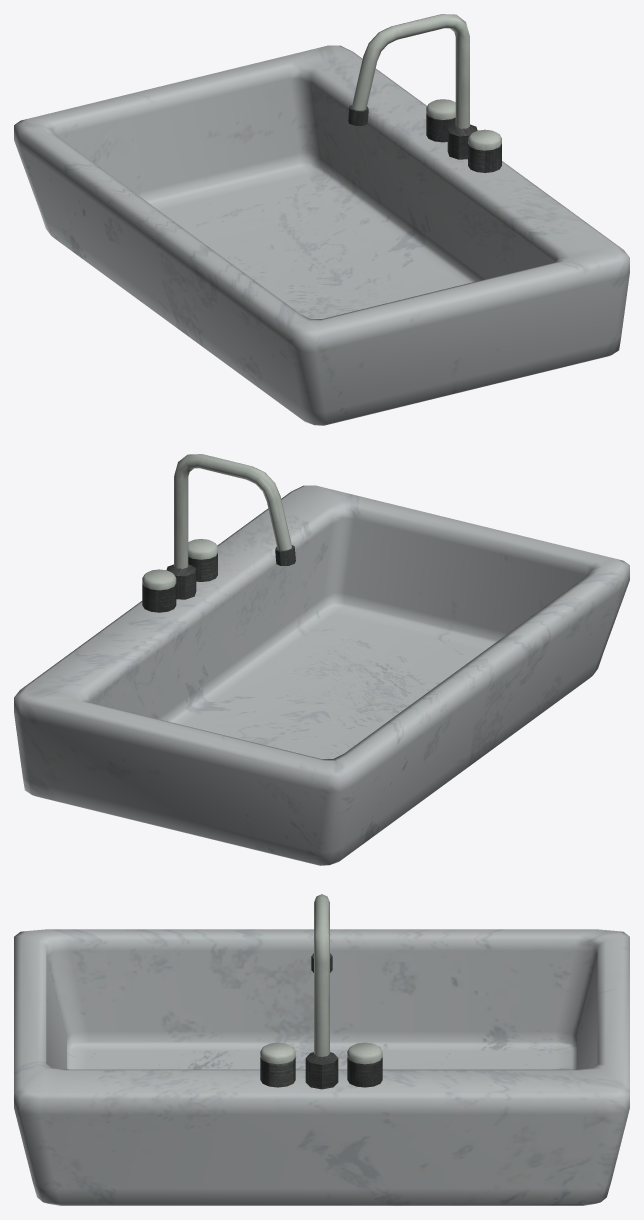
File: sink.obj
3 views of the same model, one above another, from view 1: azimuth 30°, elevation 25°; view 2: azimuth 150°, elevation 25°; view 3: azimuth 270°, elevation 25° (orthographic). The views are drawn at different scales.
Visible parts, largest first — view 1: Df_Sink, Df_SinkTap; view 2: Df_Sink, Df_SinkTap; view 3: Df_Sink, Df_SinkTap.
Part boxes in pixels (x1,y1,x2,y2): Df_Sink: (14,45,629,425); Df_SinkTap: (348,14,501,172); Df_Sink: (14,485,629,865); Df_SinkTap: (142,454,295,612); Df_Sink: (14,929,629,1205); Df_SinkTap: (260,894,382,1089).
Size of the model in its own units: 51.07 by 37.07 by 78.63.
3 materials, 3 textured.
